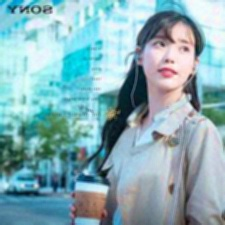earphone: (190, 57, 200, 76), (134, 47, 143, 66)
